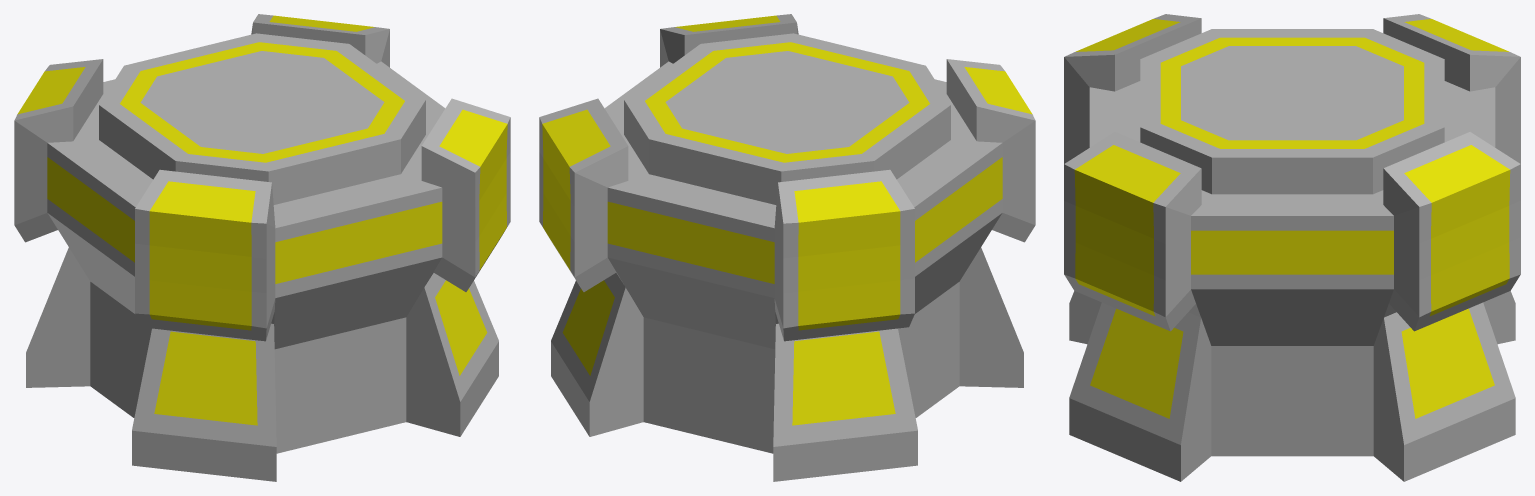
Rendered from Archer Tower lev 4.1.fbx.
The picture shows the model from 3 angles, left to right: view 1: azimuth 30°, elevation 25°; view 2: azimuth 150°, elevation 25°; view 3: azimuth 270°, elevation 25°; orthographic projection. The views are drawn at different scales.
Visible parts, largest first — view 1: Torre Wizzard.036; view 2: Torre Wizzard.036; view 3: Torre Wizzard.036.
Part boxes in pixels (bbox=[...]): Torre Wizzard.036: bbox=[14, 14, 510, 481]; Torre Wizzard.036: bbox=[539, 14, 1035, 481]; Torre Wizzard.036: bbox=[1064, 14, 1520, 481].
Size of the model in its own units: 11.25 by 8 by 11.25.
